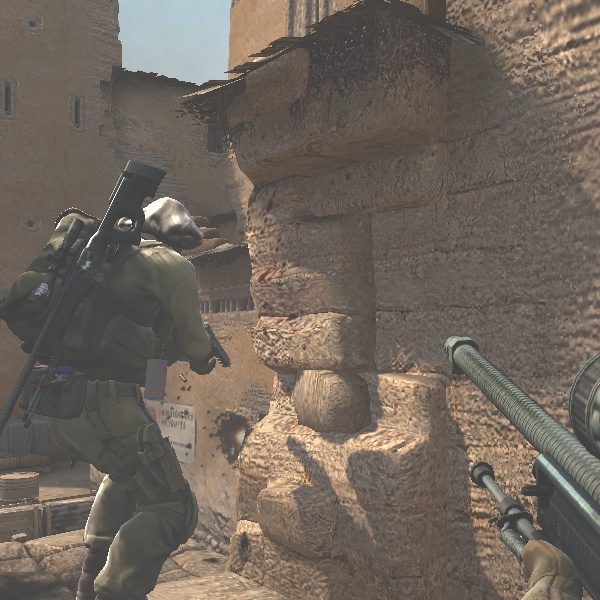ct_body: (25, 174, 215, 600)
ct_head: (122, 182, 214, 277)
